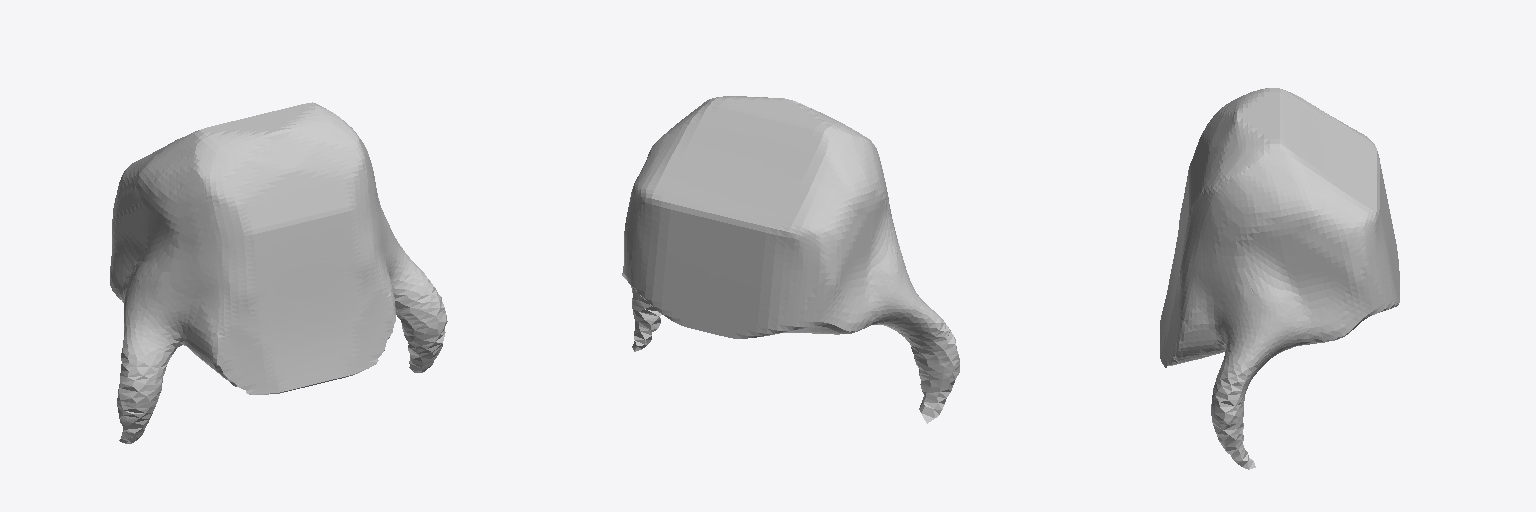
The model's file is vertabrae5.obj.
3 views of the same model, side by side, from view 1: azimuth 30°, elevation 25°; view 2: azimuth 150°, elevation 25°; view 3: azimuth 270°, elevation 25° (orthographic).
Visible parts, largest first — view 1: Cube.053_Cube.014; view 2: Cube.053_Cube.014; view 3: Cube.053_Cube.014.
Part boxes in pixels (left/top/right/bottom): Cube.053_Cube.014: left=110, top=102, right=447, bottom=443; Cube.053_Cube.014: left=622, top=96, right=959, bottom=423; Cube.053_Cube.014: left=1160, top=88, right=1399, bottom=469.
Bounding box in the file's own units: 0.1976 × 0.1622 × 0.1258.